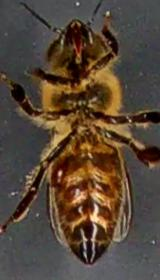varroa_mite: (46, 160, 66, 204)
